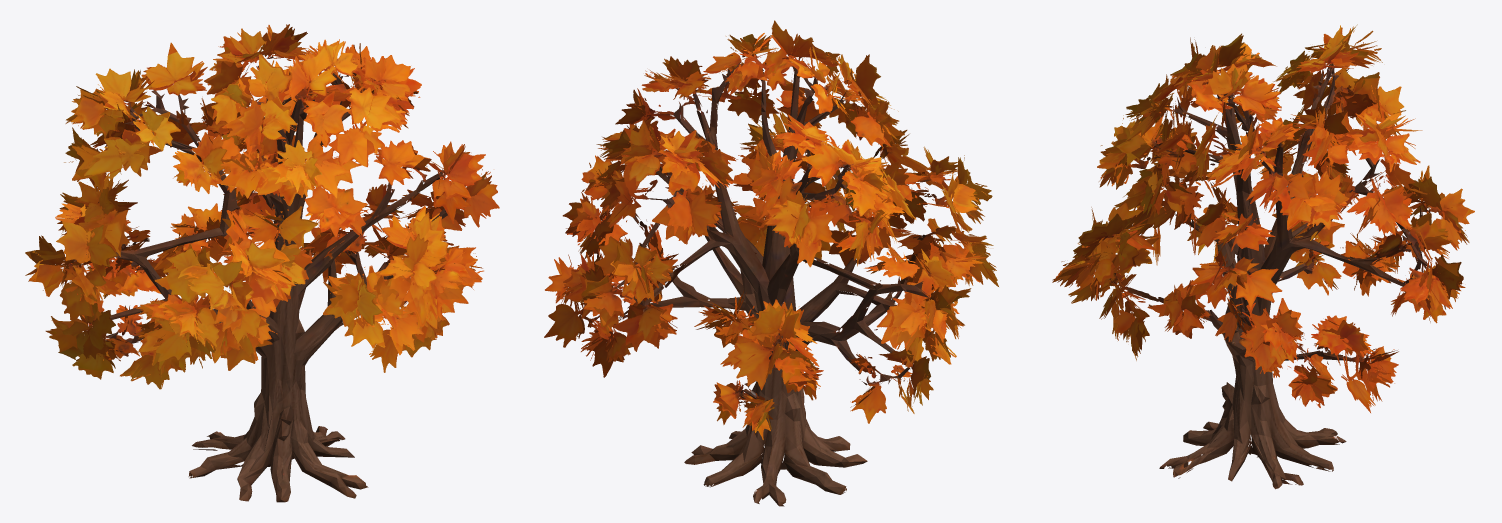
The model's file is turuncu_agac.glb.
The picture shows the model from 3 angles, left to right: view 1: azimuth 30°, elevation 25°; view 2: azimuth 150°, elevation 25°; view 3: azimuth 270°, elevation 25°; orthographic projection. The views are drawn at different scales.
Visible parts, largest first — view 1: turuncu_agac; view 2: turuncu_agac; view 3: turuncu_agac.
Part boxes in pixels (<box>): turuncu_agac: <box>25,24,499,502</box>; turuncu_agac: <box>544,20,998,506</box>; turuncu_agac: <box>1052,24,1474,489</box>.
Bounding box in the file's own units: 5.13 × 4.88 × 4.67.
2 materials, 2 textured.
